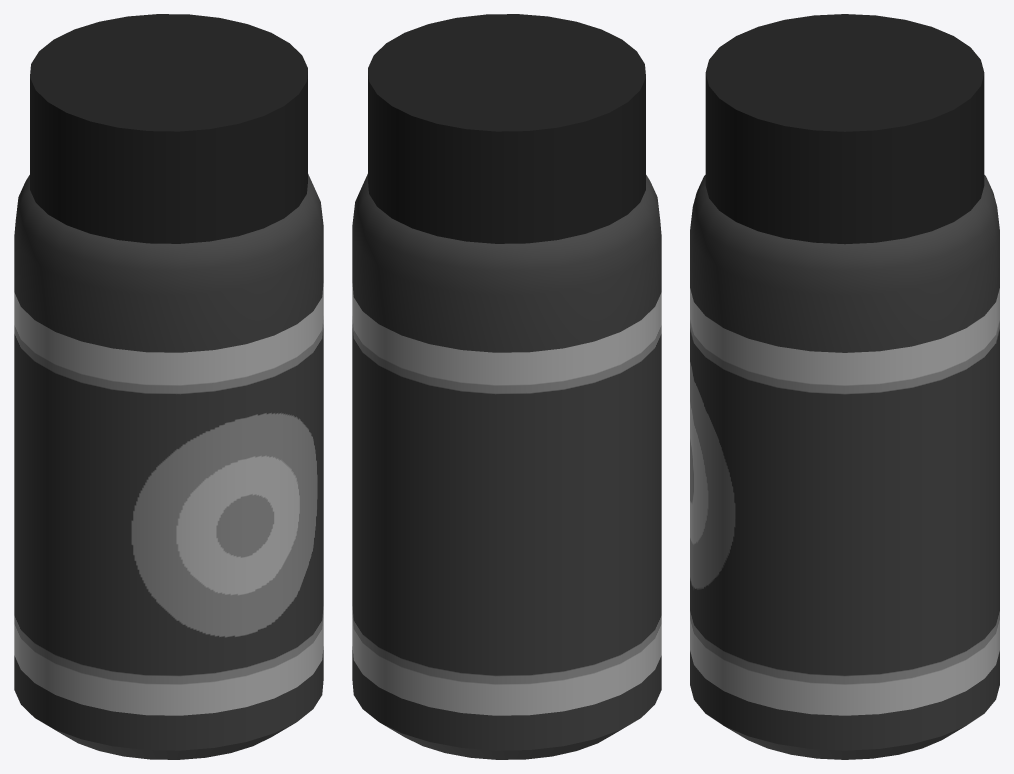
Rendered from Black_Pepper.fbx.
3 views of the same model, side by side, from view 1: azimuth 30°, elevation 25°; view 2: azimuth 150°, elevation 25°; view 3: azimuth 270°, elevation 25° (orthographic).
Parts seen in each view (by area): view 1: Black_Pepper; view 2: Black_Pepper; view 3: Black_Pepper.
Boxes of the visible parts, x1,y1,x2,y2 form: Black_Pepper: (14,14,323,759); Black_Pepper: (352,14,661,759); Black_Pepper: (690,14,999,759).
Size of the model in its own units: 0.05 by 0.113 by 0.05.
3 materials, 1 textured.
